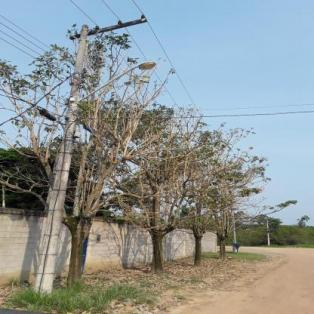Poste: (30, 24, 92, 296)
